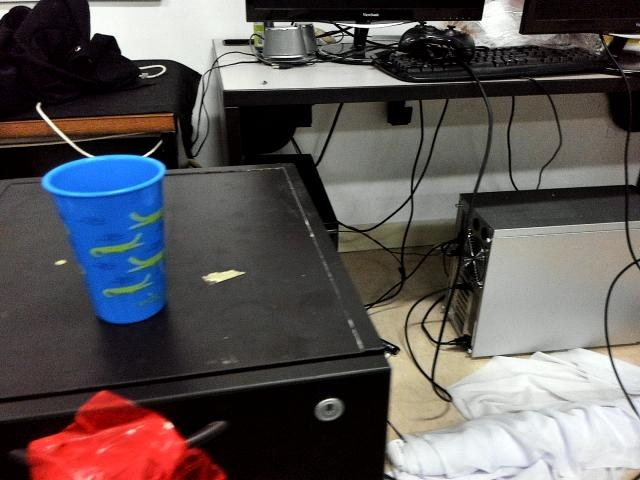water_cup: (41, 155, 173, 326)
